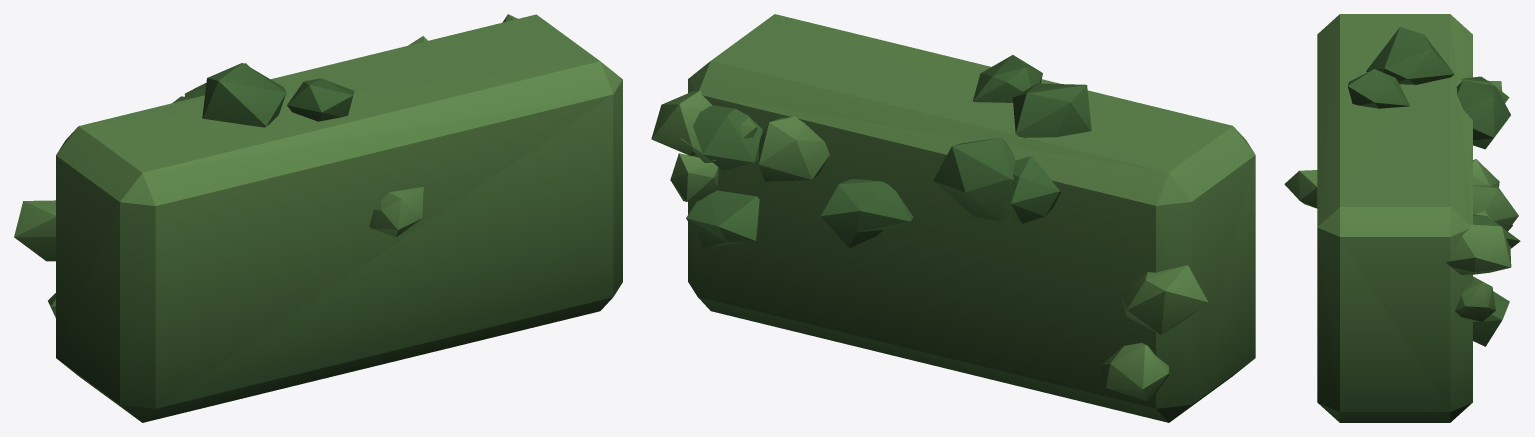
File: boxwood-hedge.glb
3 views of the same model, side by side, from view 1: azimuth 30°, elevation 25°; view 2: azimuth 150°, elevation 25°; view 3: azimuth 270°, elevation 25° (orthographic). The views are drawn at different scales.
Parts seen in each view (by area): view 1: boxwood_hedge; view 2: boxwood_hedge; view 3: boxwood_hedge.
Boxes of the visible parts, x1=… form: boxwood_hedge: x1=14, y1=14, x2=622, y2=422; boxwood_hedge: x1=651, y1=14, x2=1255, y2=422; boxwood_hedge: x1=1284, y1=14, x2=1520, y2=422.
Bounding box in the file's own units: 2.16 × 1.1 × 0.9426.
